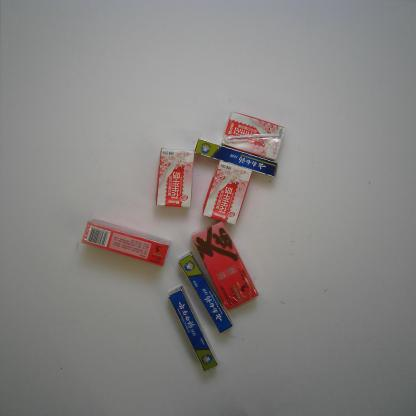Instant Drink: (192, 221, 258, 310), (81, 218, 170, 266)
Milk: (221, 111, 286, 162), (201, 160, 252, 225), (156, 148, 194, 208)
Personal Hygiene: (178, 252, 234, 335), (168, 285, 218, 372), (194, 138, 278, 178)
